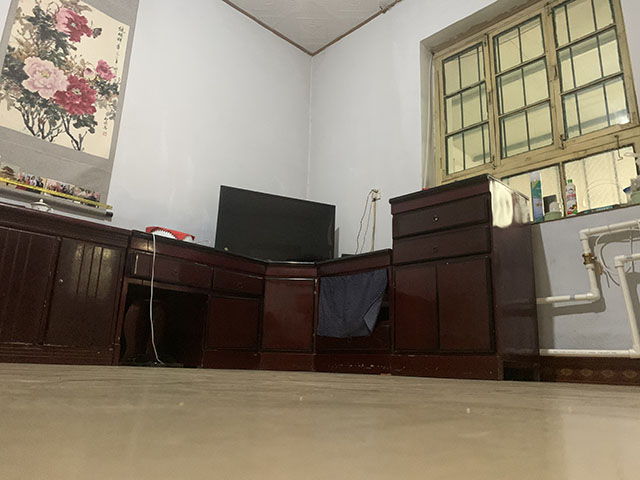cabinet: (314, 248, 538, 378), (1, 200, 140, 382), (131, 227, 278, 368)
wire: (144, 232, 168, 368)
